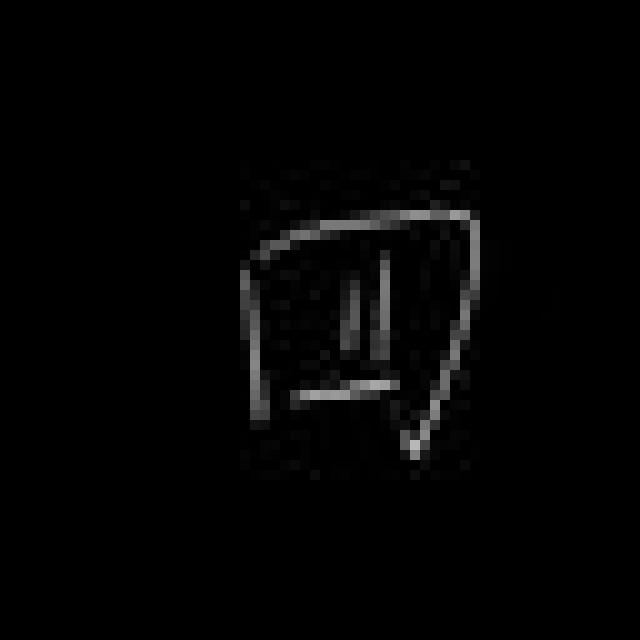4 -four-: (220, 198, 492, 460)
